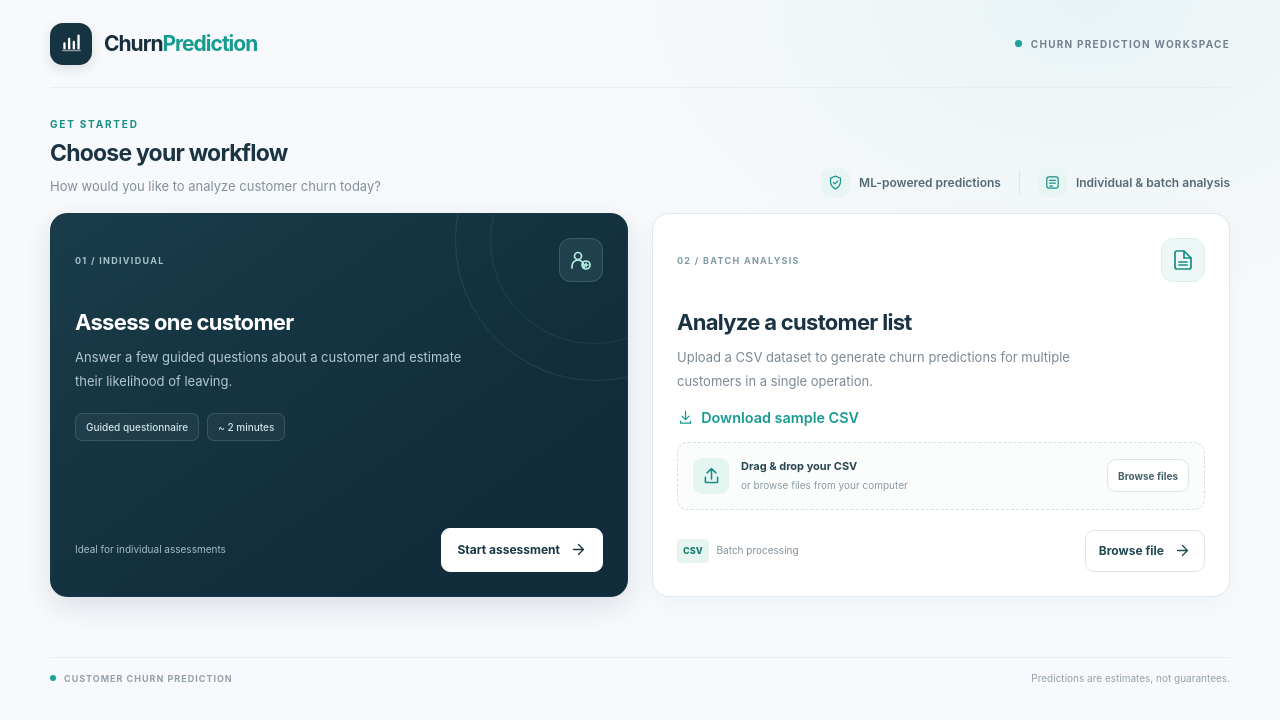
Test: App › workspace navigation › returns to the dashboard when the brand button is clicked
Click the button "Start assessment".
click(522, 550)  # box [441,528,603,572]
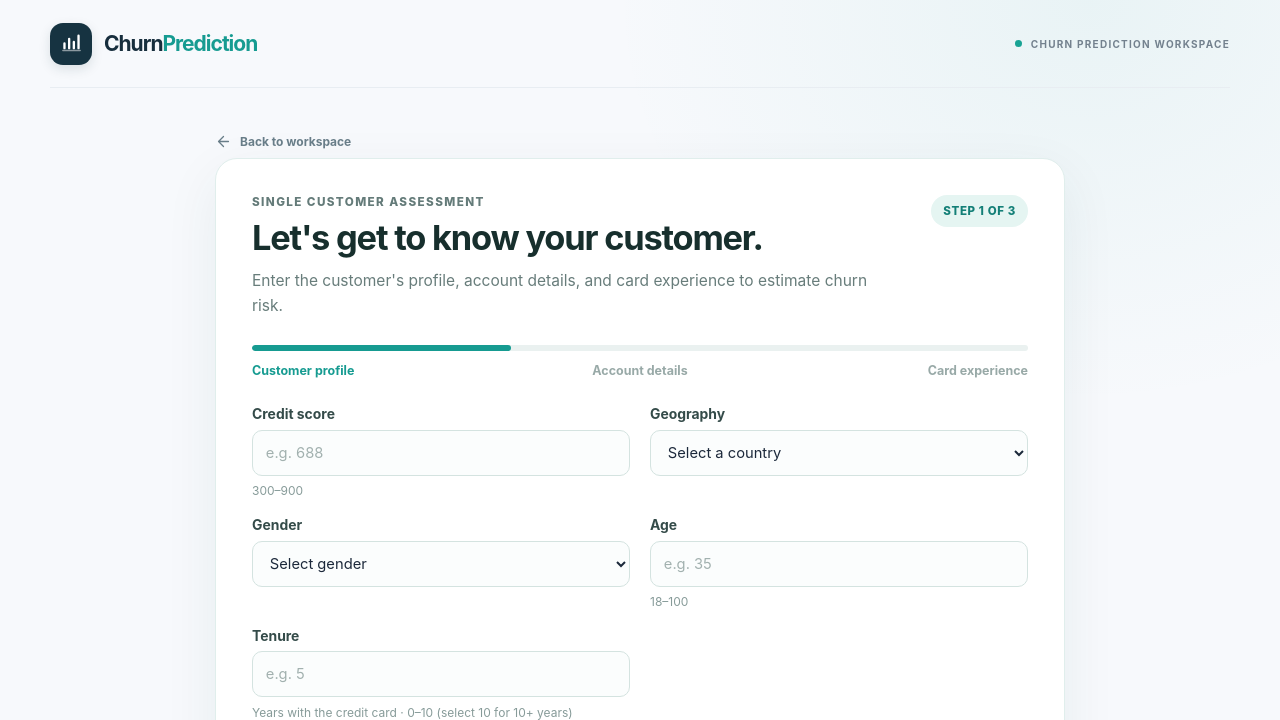
Click the button with aria-label "Return to home".
click(154, 44)  # box [50,22,257,64]
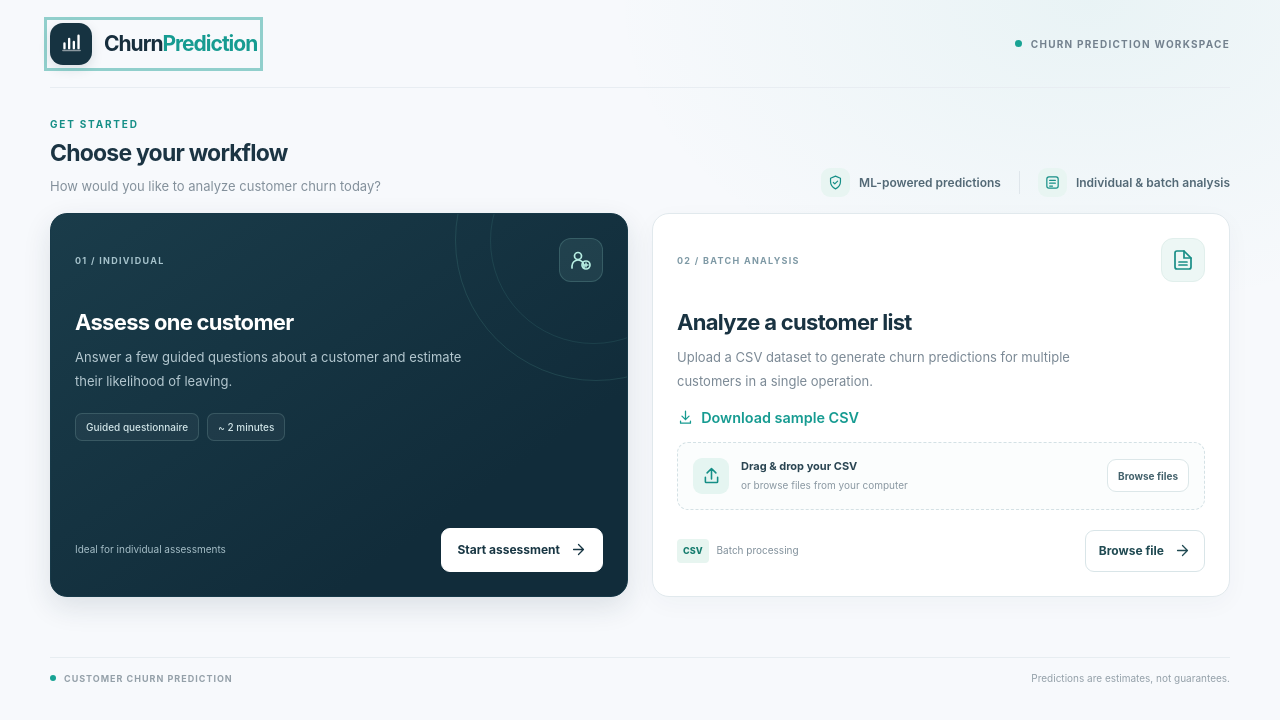
Now the heading "Choose your workflow" is shown, box [50,139,287,167]
